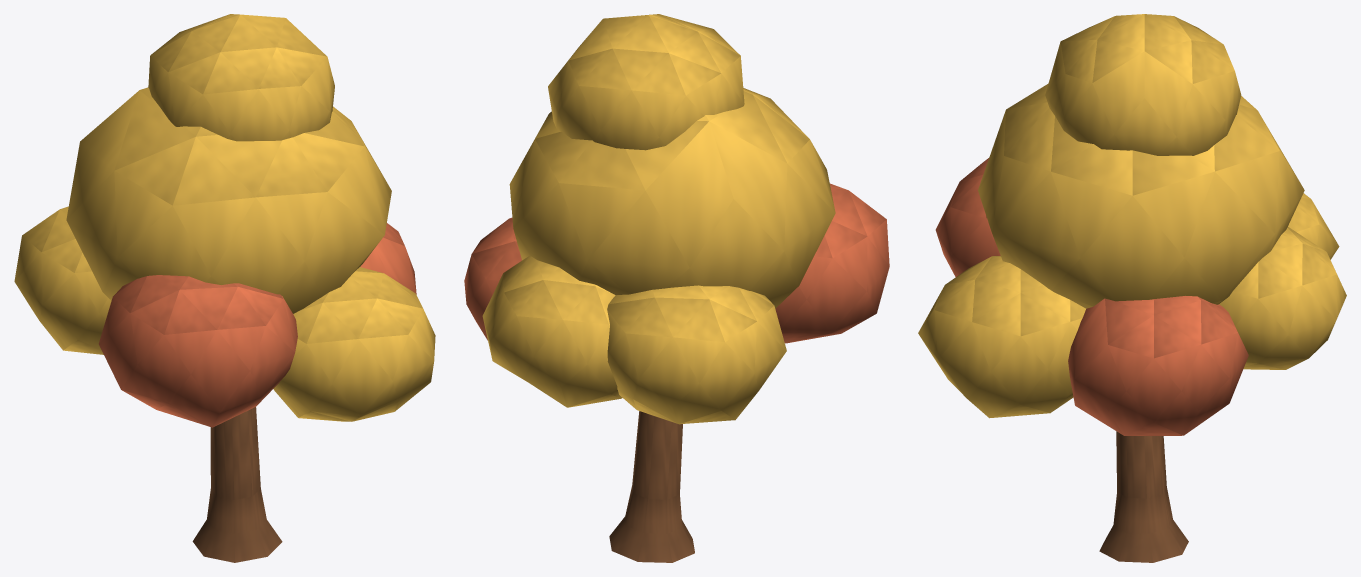
The model's file is tree_round_07.glb.
3 renders of one model, left to right at view 1: azimuth 30°, elevation 25°; view 2: azimuth 150°, elevation 25°; view 3: azimuth 270°, elevation 25°, orthographic.
Parts seen in each view (by area): view 1: tree_round_07; view 2: tree_round_07; view 3: tree_round_07.
Part boxes in pixels (x1=…): tree_round_07: x1=14, y1=14, x2=435, y2=562; tree_round_07: x1=464, y1=14, x2=889, y2=562; tree_round_07: x1=918, y1=14, x2=1346, y2=562.
Size of the model in its own units: 3.94 by 5.77 by 4.18.
1 material, 1 textured.
